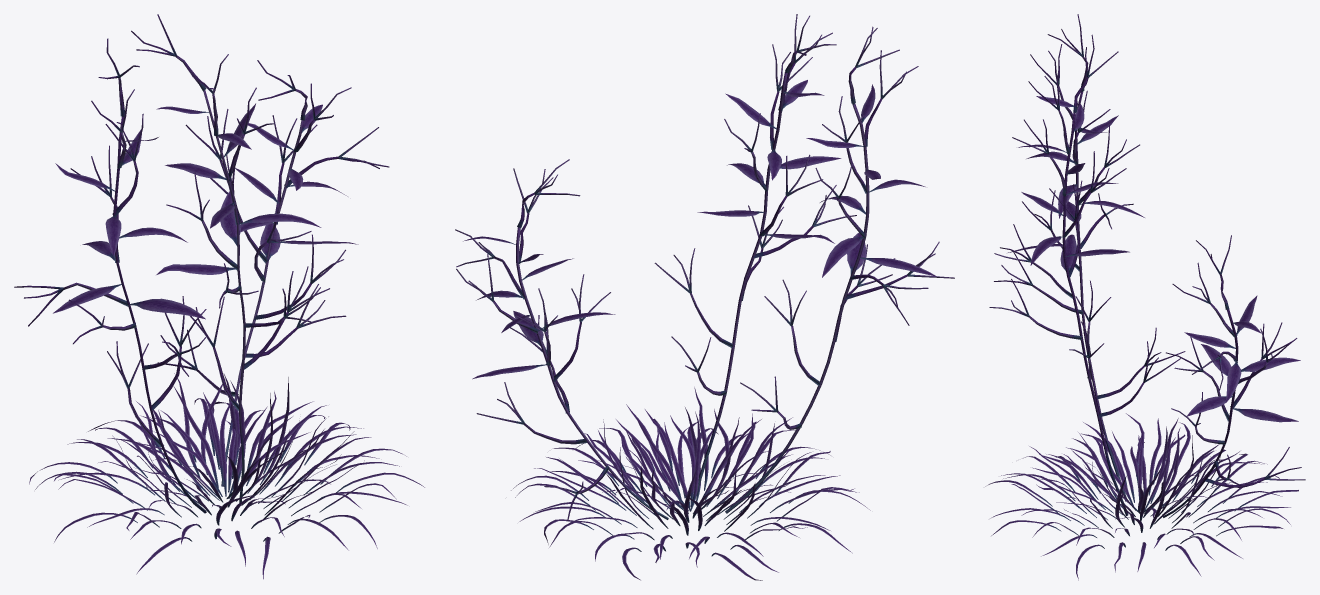
Rendered from flowers_tall_stems.glb.
The picture shows the model from 3 angles, left to right: view 1: azimuth 30°, elevation 25°; view 2: azimuth 150°, elevation 25°; view 3: azimuth 270°, elevation 25°; orthographic projection. The views are drawn at different scales.
Visible parts, largest first — view 1: stems; view 2: stems; view 3: stems.
Part boxes in pixels (x1,y1,x2,y2): stems: [14, 14, 424, 579]; stems: [455, 14, 954, 580]; stems: [985, 14, 1305, 580].
Size of the model in its own units: 2.39 by 2.84 by 1.88.
Materials: 1 (1 with a texture image).
